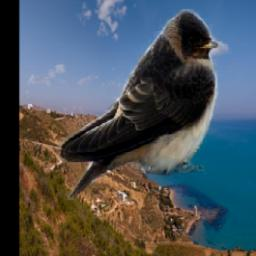Swallow: (59, 10, 220, 201)
